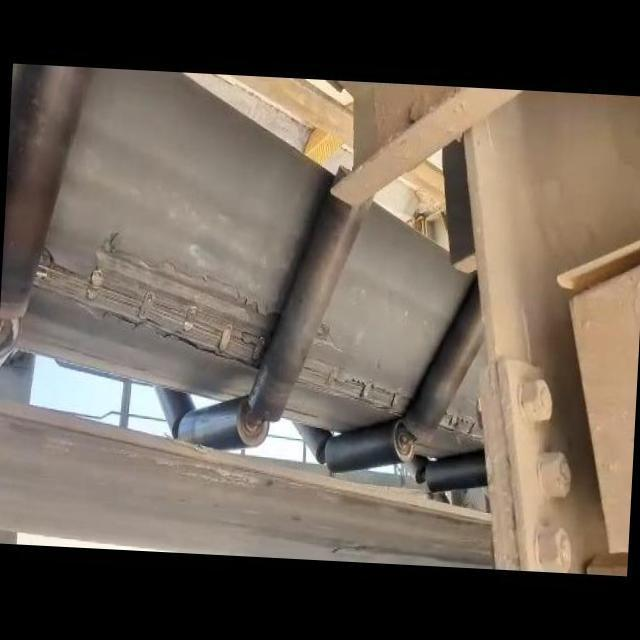Tear: (32, 232, 278, 382), (300, 352, 416, 420)
Wear: (311, 320, 344, 353)
